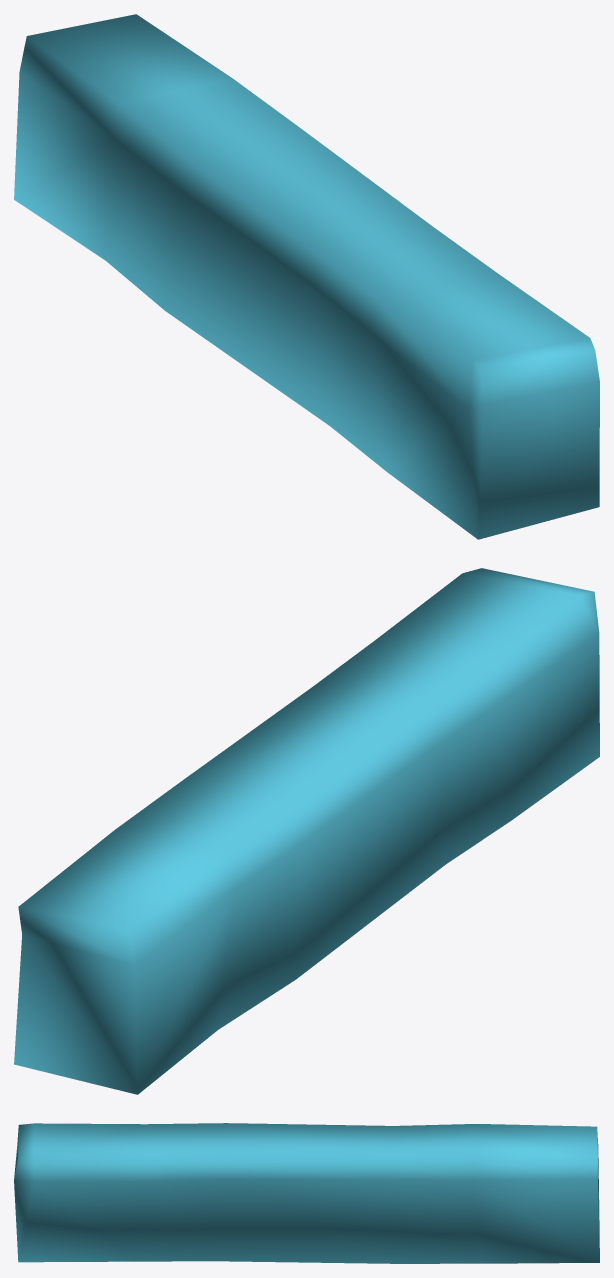
Rendered from wall_elem_04.FBX.
The picture shows the model from 3 angles, top to bottom: view 1: azimuth 30°, elevation 25°; view 2: azimuth 150°, elevation 25°; view 3: azimuth 270°, elevation 25°; orthographic projection. The views are drawn at different scales.
Visible parts, largest first — view 1: wall_elem_04; view 2: wall_elem_04; view 3: wall_elem_04.
Boxes of the visible parts, bbox=[...] form: wall_elem_04: bbox=[14, 14, 599, 539]; wall_elem_04: bbox=[14, 568, 599, 1094]; wall_elem_04: bbox=[14, 1123, 599, 1263].
Bounding box in the file's own units: 16.48 × 20.35 × 102.
